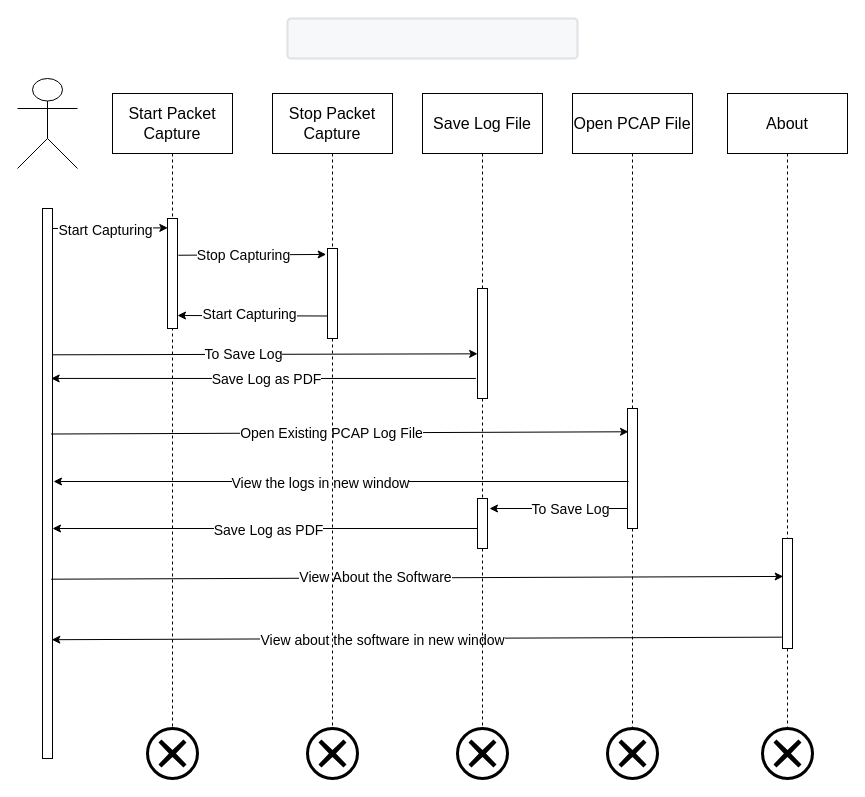
Some shapes in this 865 by 797 pixel diagram are drawn without their labels. The shapes that lost their labels are listed below. From the top down, each one's box as (x1, y1, x2, y2) in pixels, then its label:
(286, 17, 578, 59): Sequence Diagram
(16, 78, 78, 168): User
